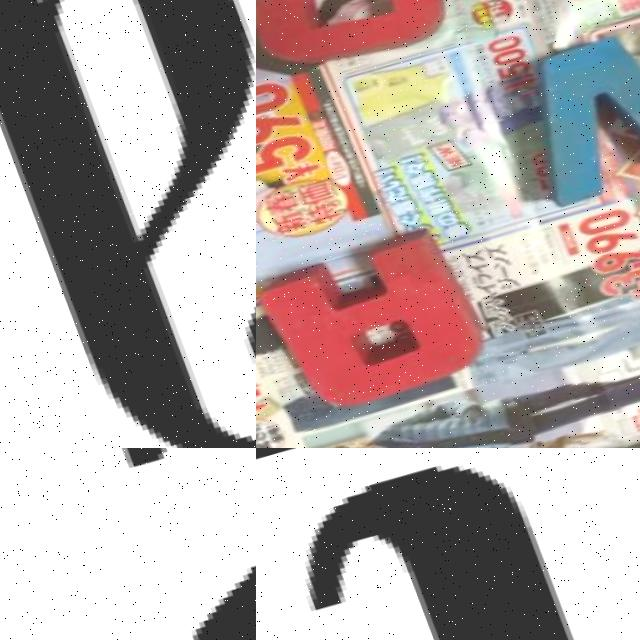A: (0, 0, 256, 448), (256, 226, 480, 424)
O: (256, 0, 478, 87)
T: (261, 448, 640, 640)
V: (492, 8, 640, 211)
